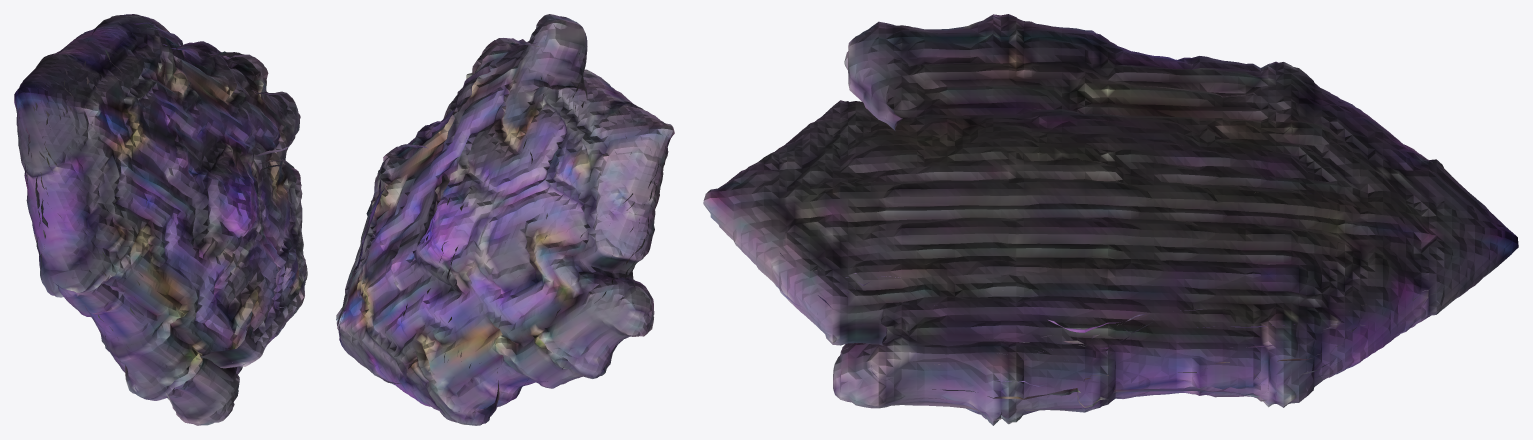
The picture shows the model from 3 angles, left to right: view 1: azimuth 30°, elevation 25°; view 2: azimuth 150°, elevation 25°; view 3: azimuth 270°, elevation 25°; orthographic projection. The views are drawn at different scales.
Visible parts, largest first — view 1: world; view 2: world; view 3: world.
Part boxes in pixels (box(x1,y1,x2,y2)): world: box(14, 14, 307, 425); world: box(336, 14, 674, 425); world: box(703, 14, 1518, 425).
Size of the model in its own units: 0.2846 by 0.5891 by 0.972.
